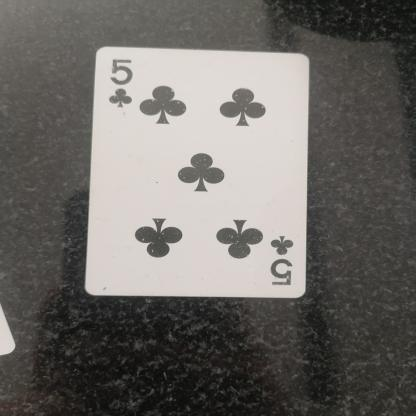5C: (93, 58, 141, 113), (270, 232, 302, 291)
